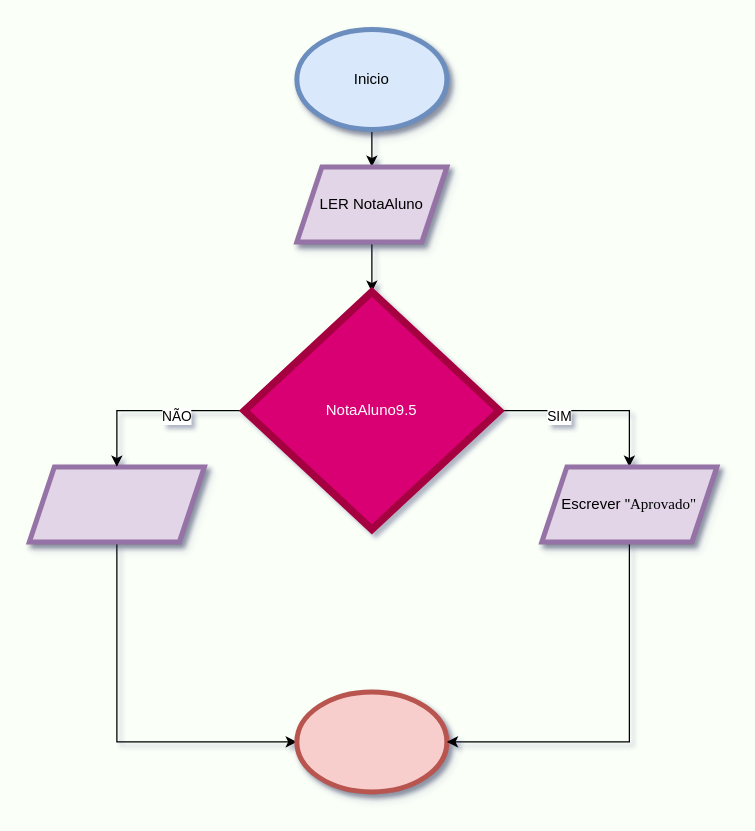
This 755x831 diagram has some shape labels left out. The centre of each missing label's shape, as x and y in pixels:
Escrever " Reprovado": (x=117, y=505)
Fim: (x=372, y=743)
